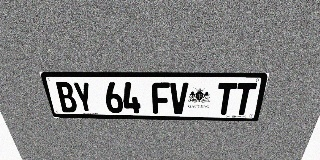4: (121, 82, 141, 113)
6: (103, 82, 124, 113)
B: (54, 82, 78, 112)
F: (152, 82, 170, 114)
T: (233, 83, 257, 115), (215, 83, 237, 115)
V: (170, 82, 188, 114)
Y: (72, 82, 95, 113)
